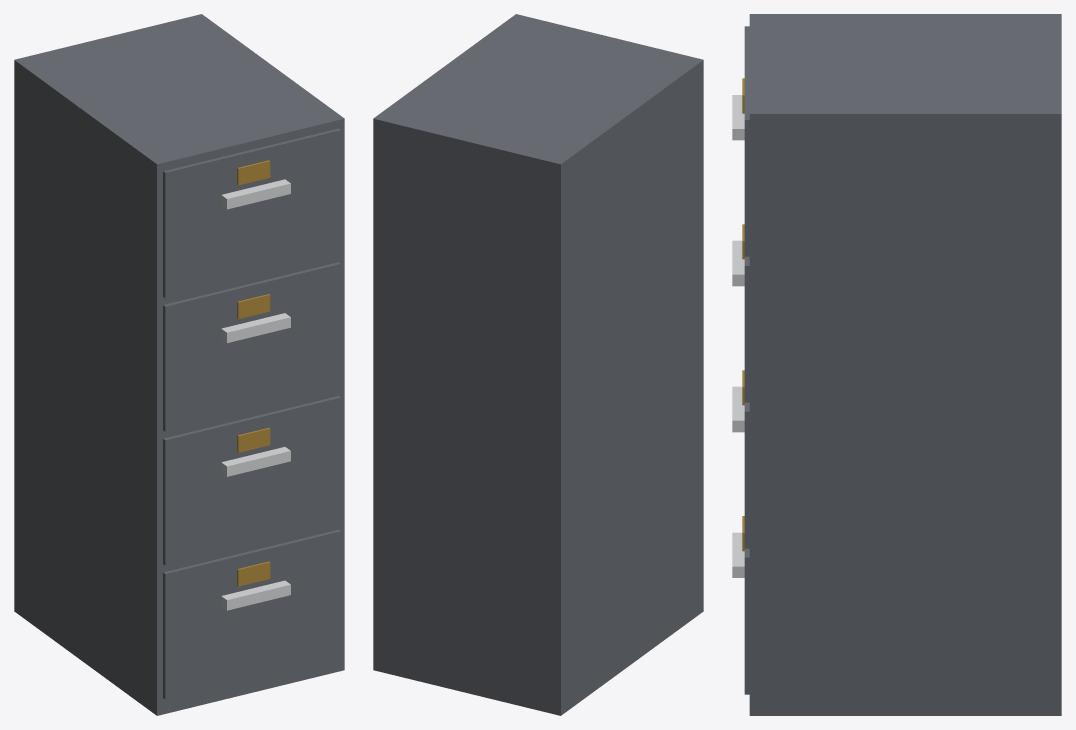
File: filing_cabinet.glb
3 renders of one model, left to right at view 1: azimuth 30°, elevation 25°; view 2: azimuth 150°, elevation 25°; view 3: azimuth 270°, elevation 25°, orthographic. The views are drawn at different scales.
Visible parts, largest first — view 1: filing_cabinet; view 2: filing_cabinet; view 3: filing_cabinet.
Boxes of the visible parts, left/top/right/bottom form: filing_cabinet: left=14, top=14, right=344, bottom=715; filing_cabinet: left=373, top=14, right=703, bottom=715; filing_cabinet: left=732, top=14, right=1061, bottom=715.
Bounding box in the file's own units: 0.47 × 1.32 × 0.655.
1 material, 1 textured.
